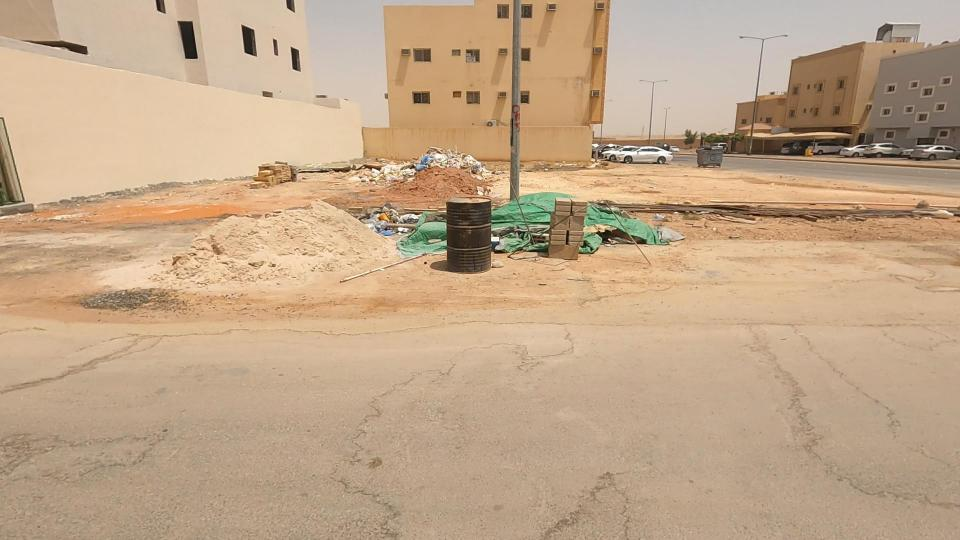GARBAGE: (431, 135, 716, 299), (367, 106, 534, 211), (328, 177, 472, 275), (302, 122, 446, 205)
SAND_ON_ROAD: (149, 164, 448, 344)
